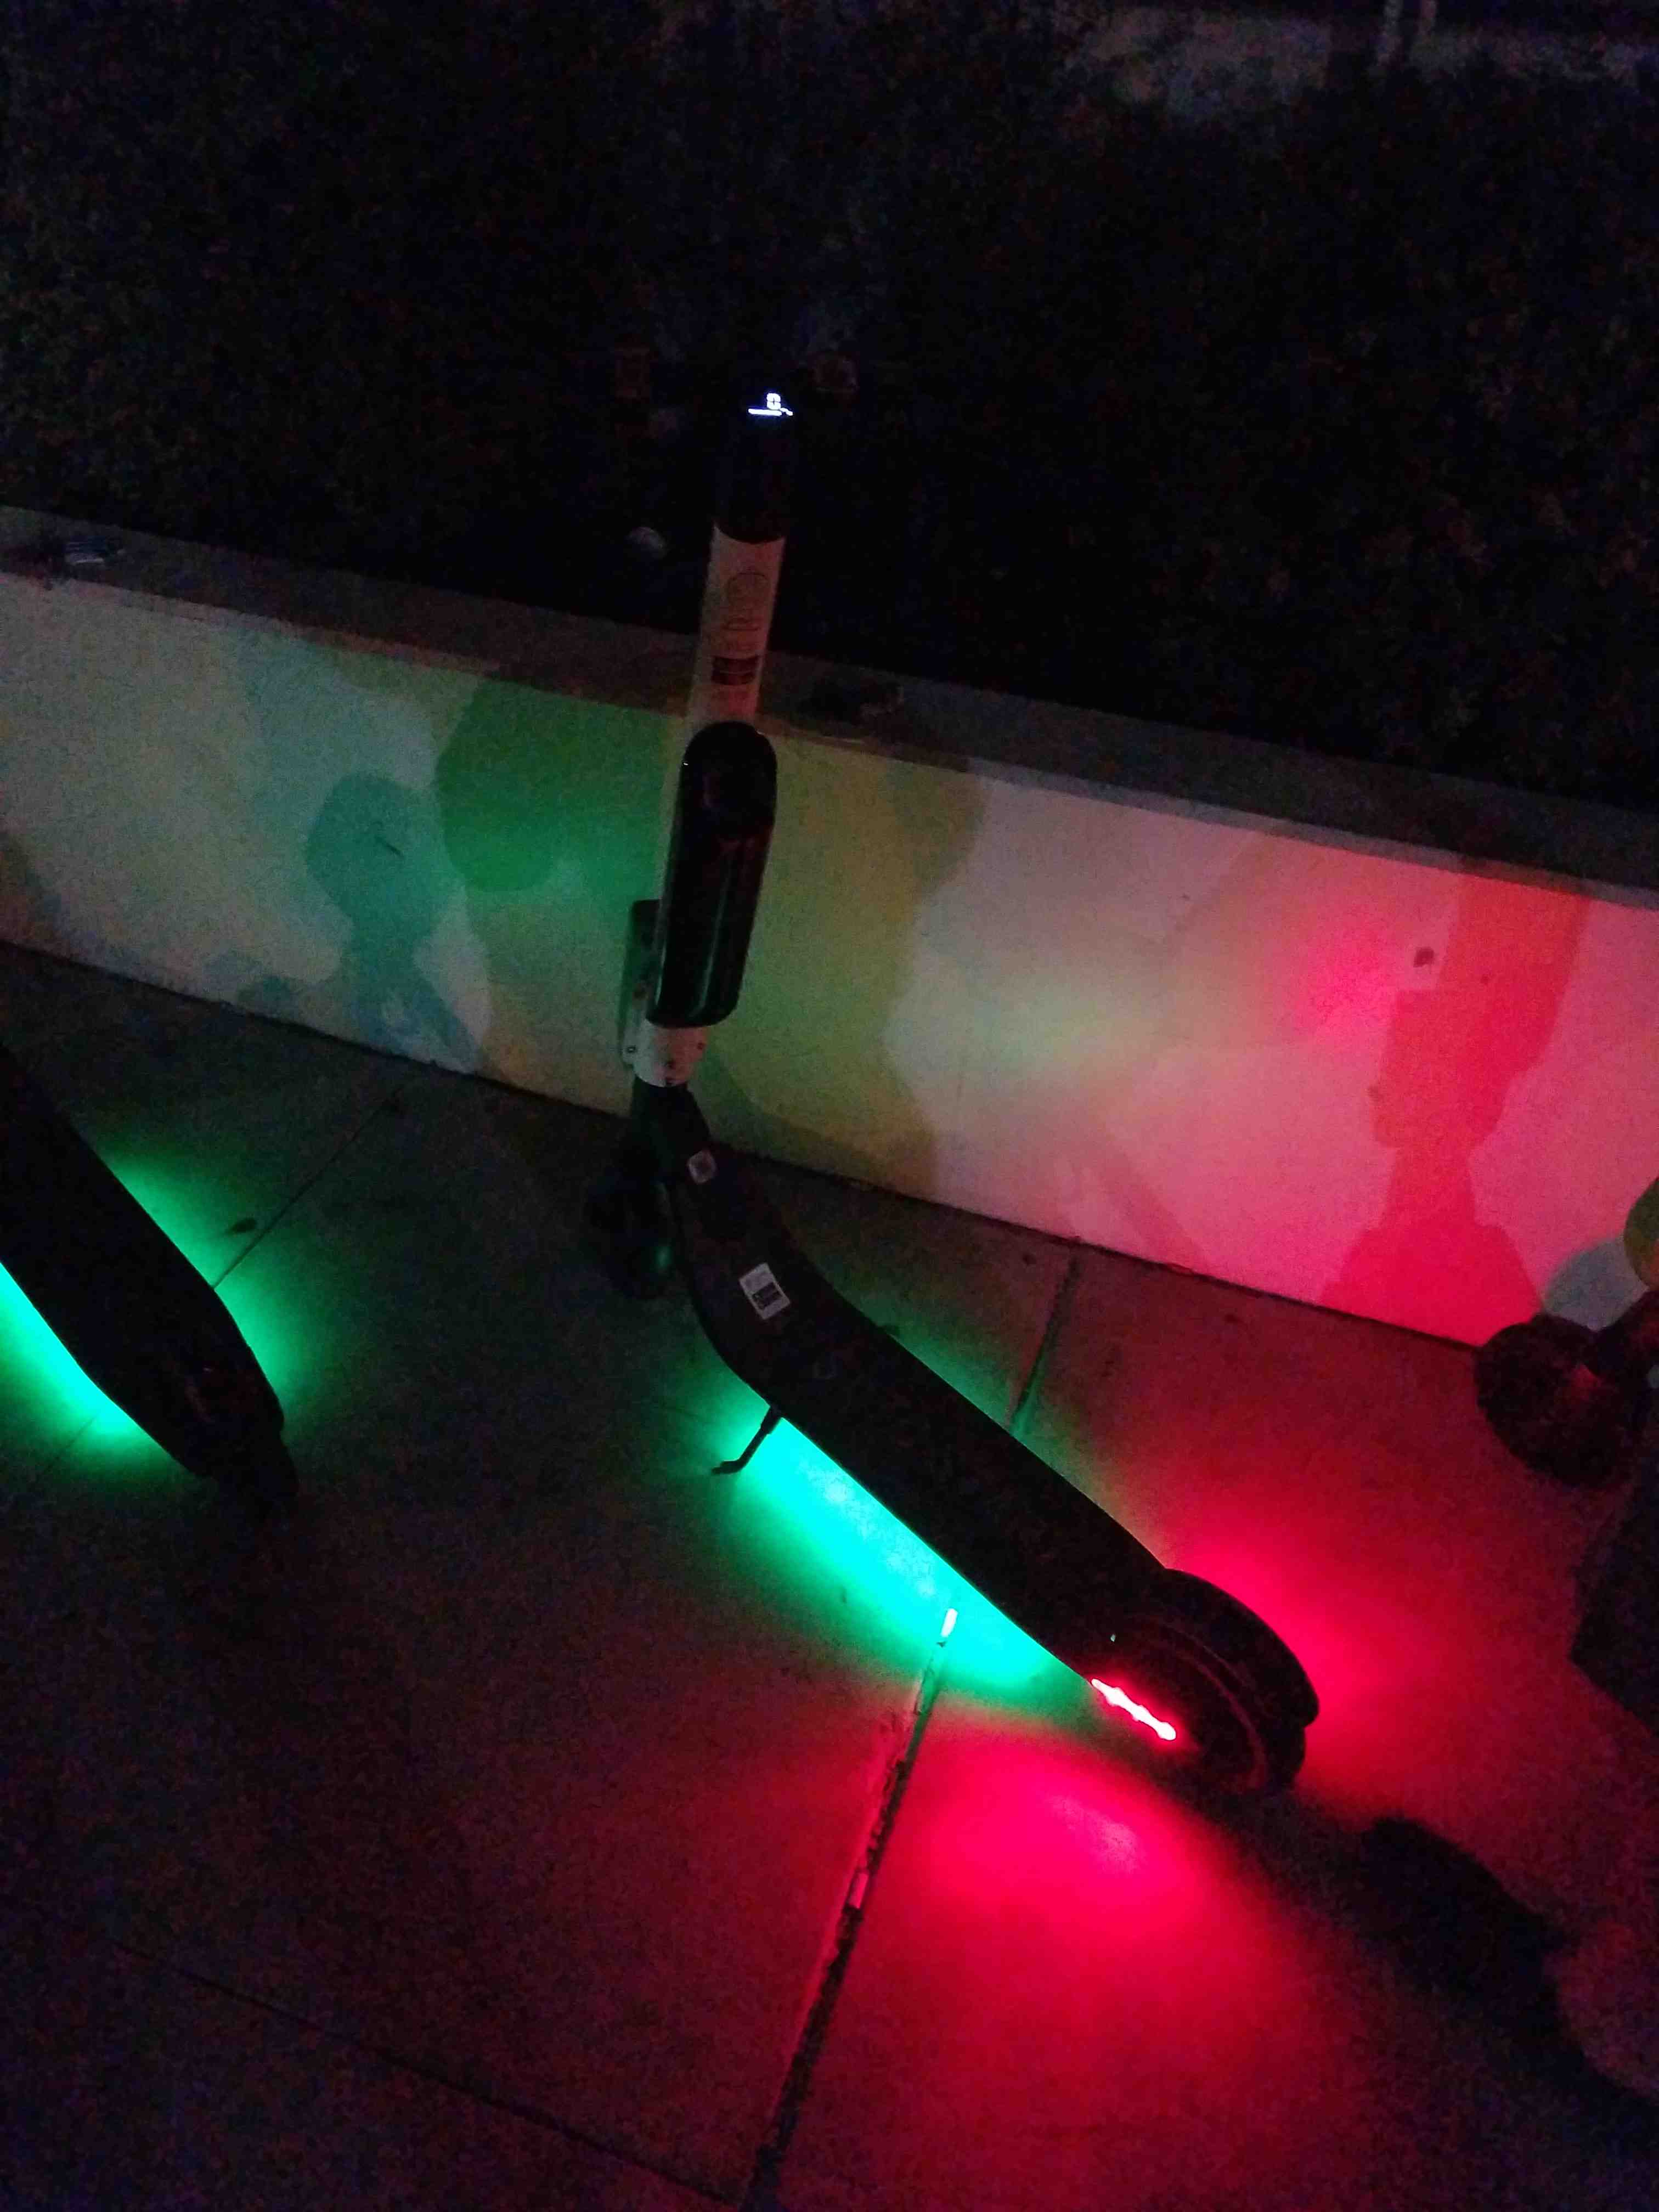scooter: (558, 308, 1314, 1796)
